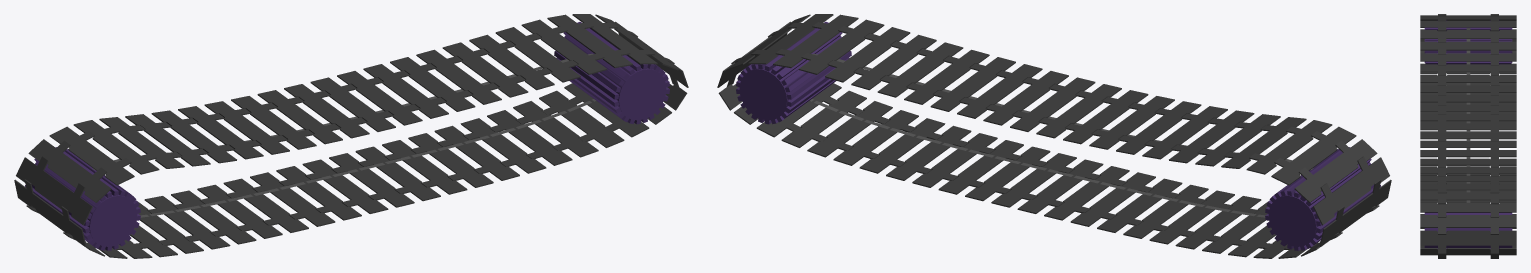
Rendered from conveyor_belt.glb.
3 views of the same model, side by side, from view 1: azimuth 30°, elevation 25°; view 2: azimuth 150°, elevation 25°; view 3: azimuth 270°, elevation 25° (orthographic). The views are drawn at different scales.
Parts seen in each view (by area): view 1: Plane (×45), Gear.001, Gear, ArrayBase; view 2: Plane (×45), Gear.001, Gear, ArrayBase; view 3: Plane (×40), Gear, Gear.001, ArrayBase.
Boxes of the visible parts, left/top/right/bottom form: Plane (×45): left=14, top=14, right=688, bottom=257; Gear.001: left=554, top=21, right=669, bottom=124; Gear: left=25, top=147, right=140, bottom=250; ArrayBase: left=92, top=53, right=595, bottom=217; Plane (×45): left=717, top=14, right=1391, bottom=257; Gear.001: left=736, top=21, right=851, bottom=124; Gear: left=1265, top=147, right=1380, bottom=250; ArrayBase: left=810, top=53, right=1313, bottom=217; Plane (×40): left=1420, top=14, right=1516, bottom=258; Gear: left=1424, top=20, right=1512, bottom=64; Gear.001: left=1424, top=212, right=1512, bottom=248; ArrayBase: left=1466, top=28, right=1470, bottom=202.
Bounding box in the file's own units: 2.19 × 0.3364 × 0.4171.
